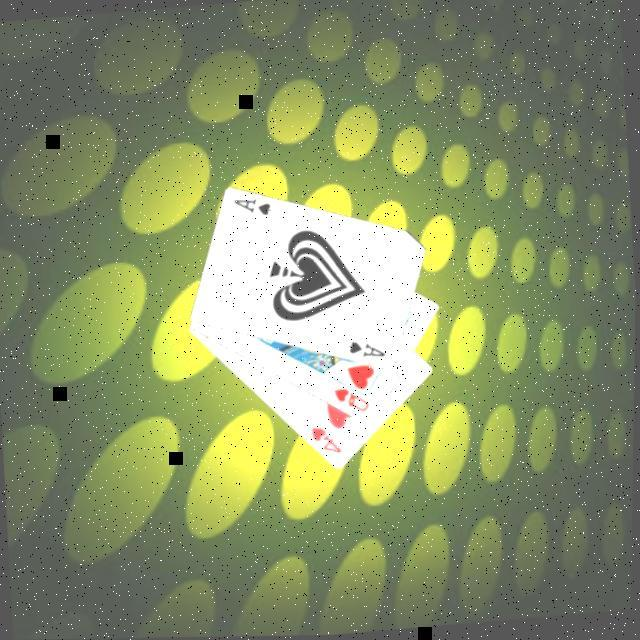4H: (306, 422, 344, 458)
AS: (228, 192, 274, 222), (343, 336, 388, 364)
QH: (329, 383, 372, 419)
